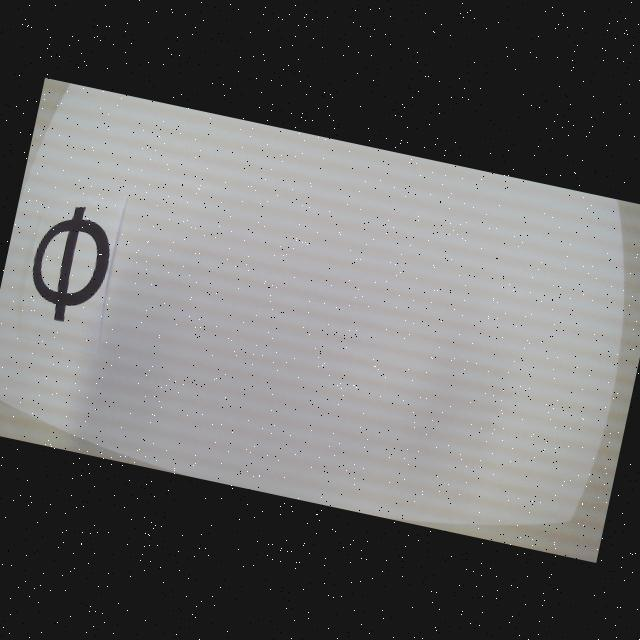PHI: (22, 199, 120, 329)
